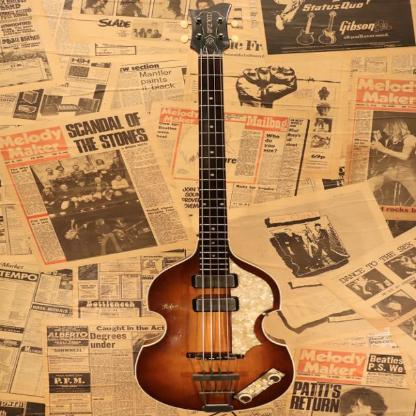bass: (135, 2, 295, 414)
